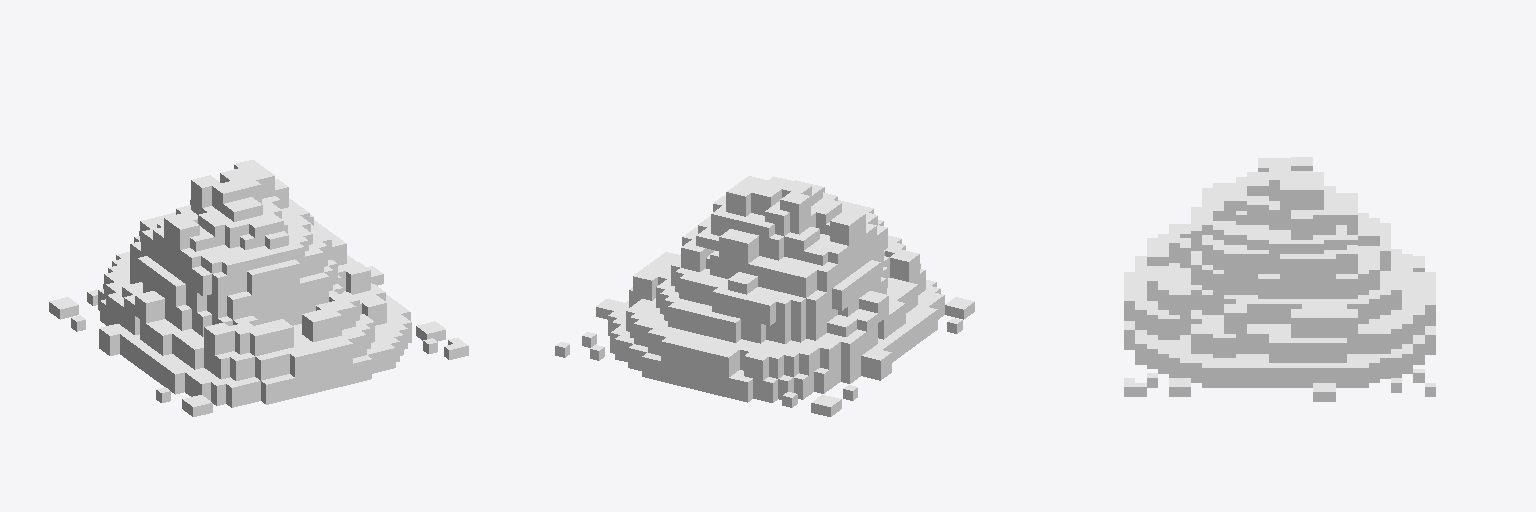
File: VoxelNuke-9-TrashPile-0.obj
3 views of the same model, side by side, from view 1: azimuth 30°, elevation 25°; view 2: azimuth 150°, elevation 25°; view 3: azimuth 270°, elevation 25° (orthographic).
Parts seen in each view (by area): view 1: TrashPile-0; view 2: TrashPile-0; view 3: TrashPile-0.
Boxes of the visible parts, x1=… form: TrashPile-0: x1=49, y1=160, x2=468, y2=416; TrashPile-0: x1=555, y1=176, x2=974, y2=416; TrashPile-0: x1=1124, y1=157, x2=1435, y2=401.
Bounding box in the file's own units: 0.6 × 0.3 × 0.56.